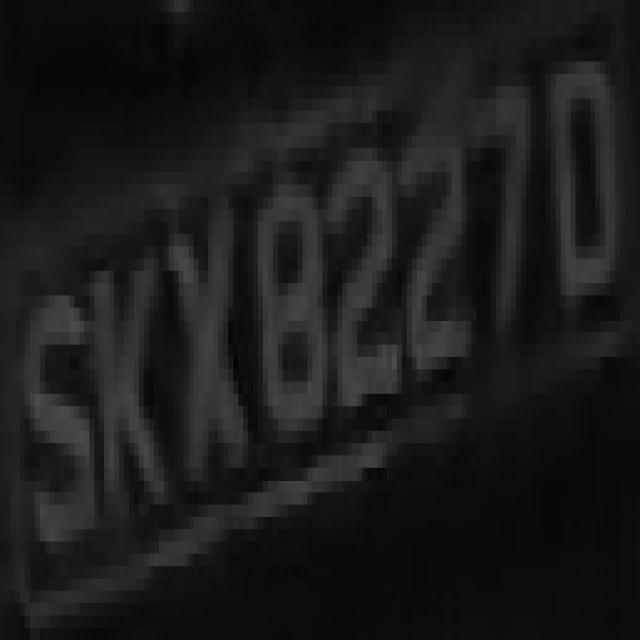2: (382, 49, 476, 431), (307, 74, 402, 431)
7: (461, 61, 541, 418)
8: (248, 123, 323, 505)
D: (536, 61, 630, 357)
K: (79, 222, 169, 542)
S: (15, 222, 94, 603)
X: (164, 185, 253, 480)
